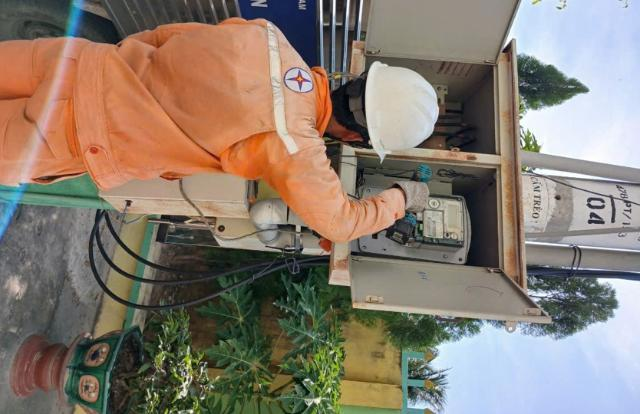gloves: (391, 167, 448, 232)
helmet: (346, 51, 446, 162)
